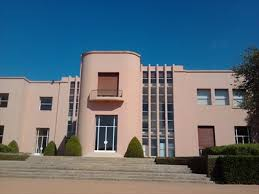serralves: (0, 50, 258, 157)
